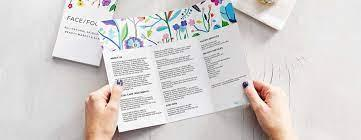paper: (52, 0, 250, 133)
